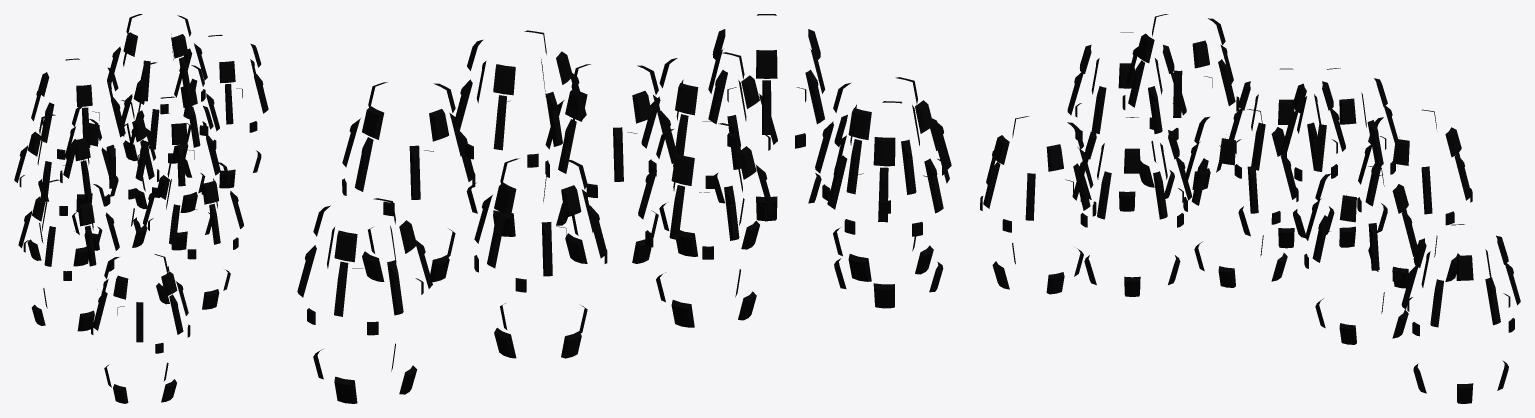
Rendered from prop_static_yao_container_01_02.glb.
The picture shows the model from 3 angles, left to right: view 1: azimuth 30°, elevation 25°; view 2: azimuth 150°, elevation 25°; view 3: azimuth 270°, elevation 25°; orthographic projection. The views are drawn at different scales.
Visible parts, largest first — view 1: yao_container_01_02_LOD0; view 2: yao_container_01_02_LOD0; view 3: yao_container_01_02_LOD0.
Part boxes in pixels (box(x1,y1,x2,y2)): yao_container_01_02_LOD0: box(14, 14, 268, 403); yao_container_01_02_LOD0: box(297, 14, 951, 403); yao_container_01_02_LOD0: box(980, 14, 1520, 403).
Size of what is drawn, in the model's own units: 7.9 by 5.39 by 9.46.
1 material, 1 textured.
